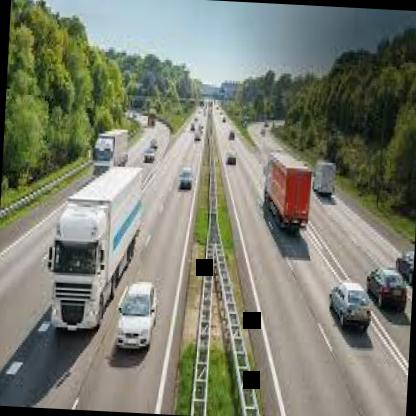car: (40, 152, 143, 344), (252, 140, 320, 256), (112, 272, 162, 390), (92, 101, 139, 195), (321, 273, 374, 356), (353, 244, 412, 318), (304, 158, 342, 206), (176, 164, 197, 198), (140, 141, 159, 171), (225, 146, 238, 182)
